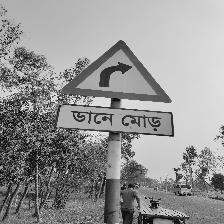Right-turn: (58, 41, 175, 137)
